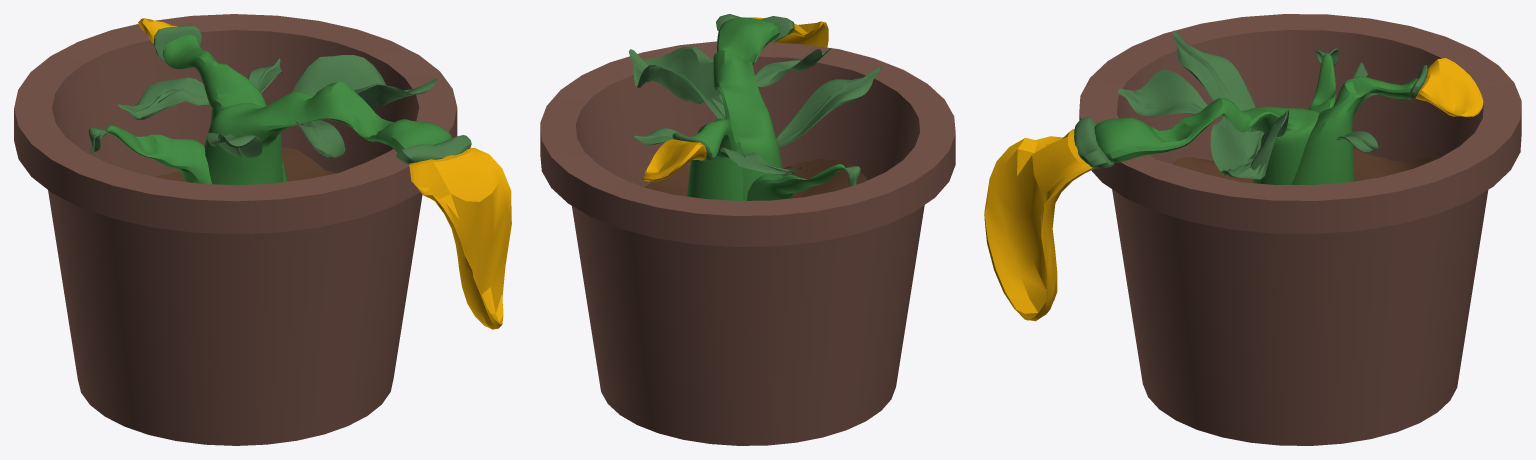
The model's file is squishedplant.glb.
The picture shows the model from 3 angles, left to right: view 1: azimuth 30°, elevation 25°; view 2: azimuth 150°, elevation 25°; view 3: azimuth 270°, elevation 25°; orthographic projection. The views are drawn at different scales.
Visible parts, largest first — view 1: plant; view 2: plant; view 3: plant.
Boxes of the visible parts, left/top/right/bottom form: plant: left=14, top=14, right=511, bottom=445; plant: left=540, top=14, right=955, bottom=445; plant: left=984, top=14, right=1521, bottom=445.
Size of the model in its own units: 1.34 by 1.04 by 1.62.
